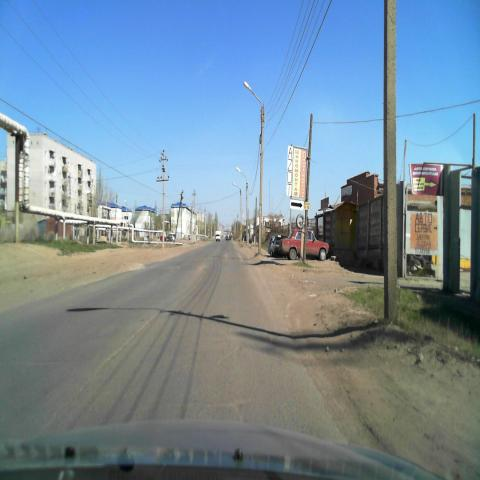8_3_1: (290, 198, 304, 210)
